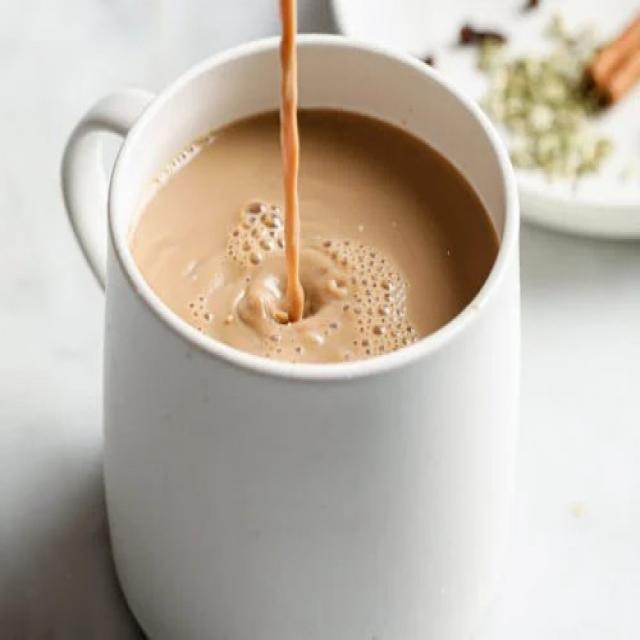Chai: (130, 103, 494, 360), (273, 3, 302, 310)
